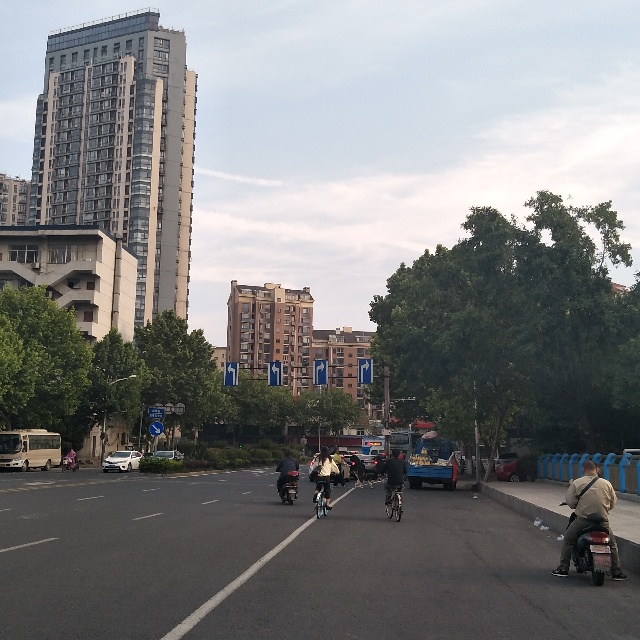left: (222, 359, 239, 387), (266, 361, 284, 386)
right: (312, 361, 330, 386), (357, 359, 373, 384)
